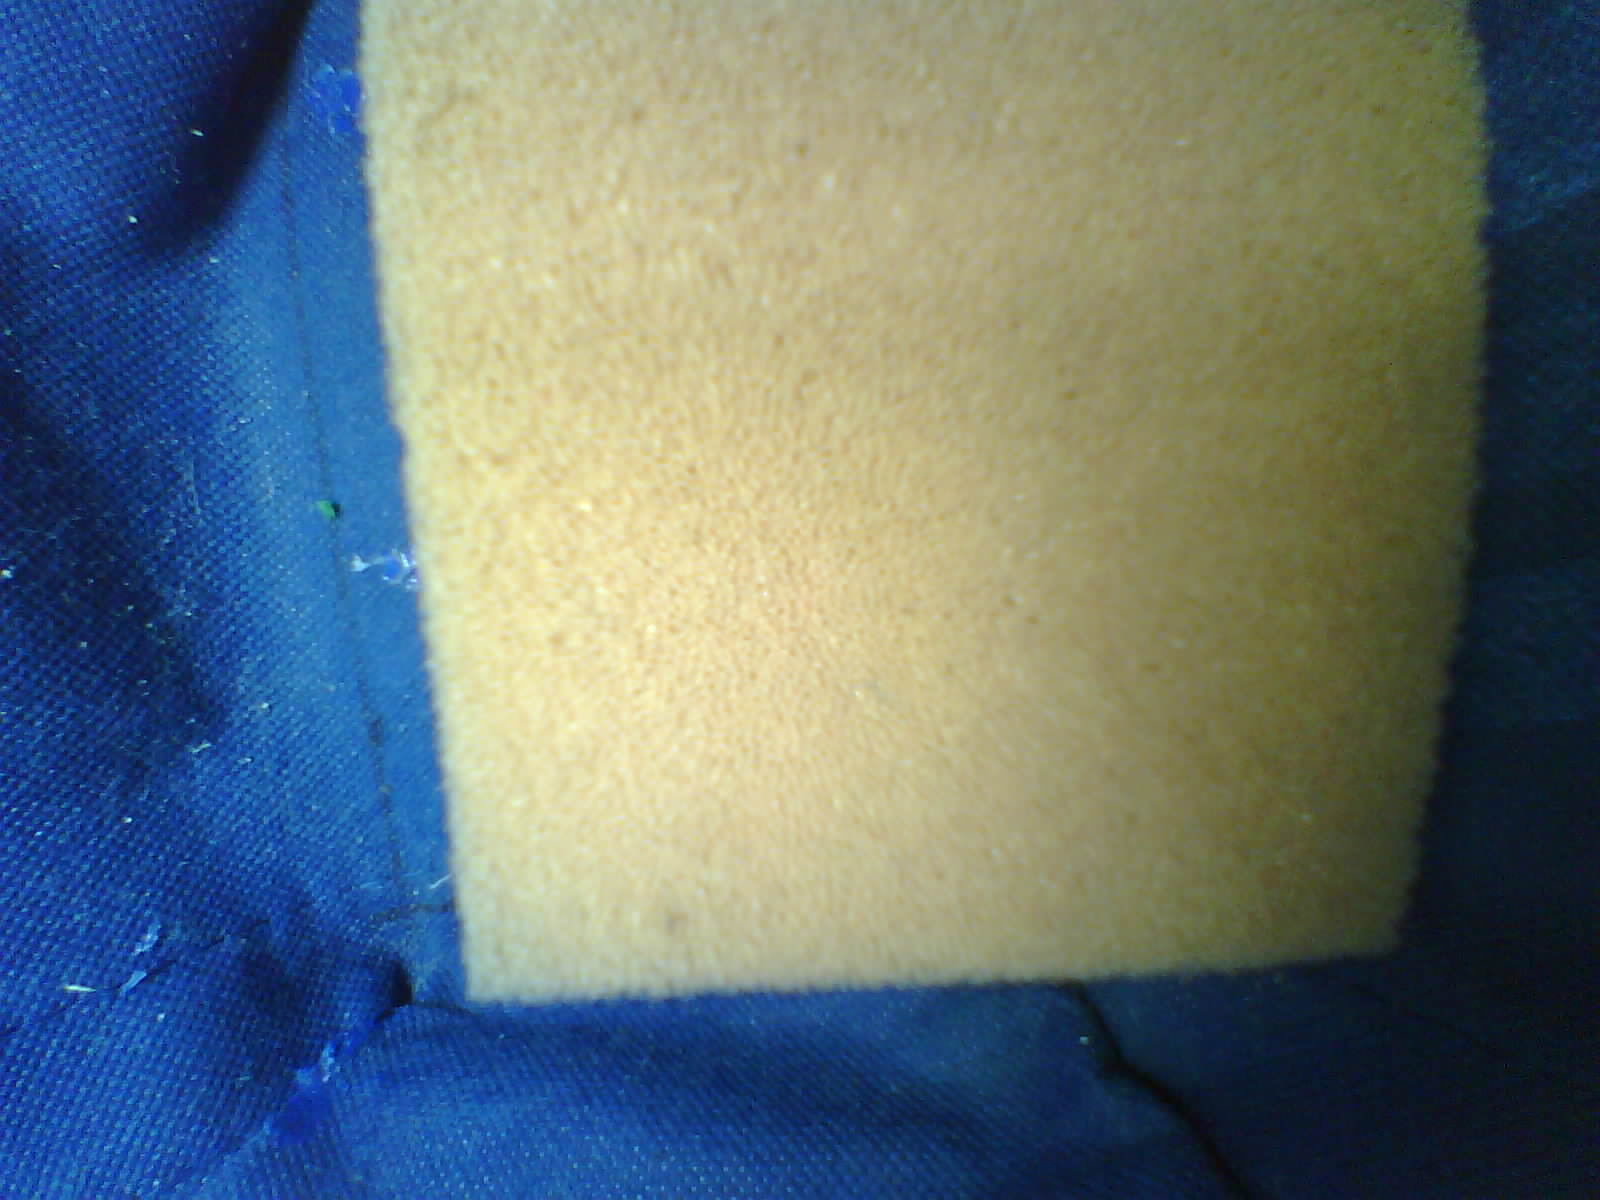cube-soft: (335, 0, 1514, 1025)
